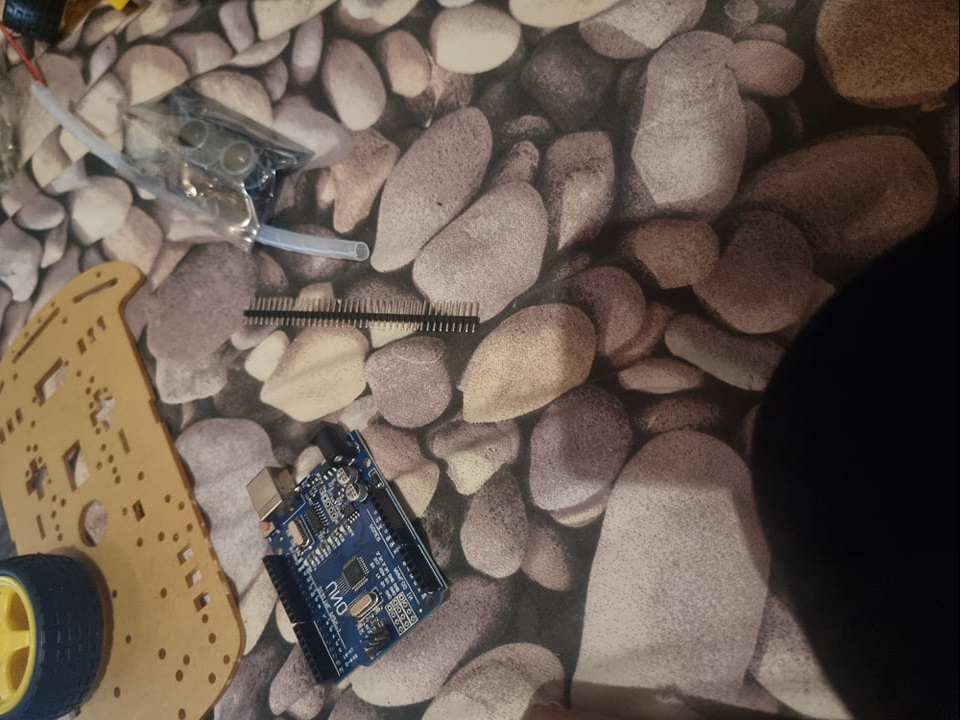SENSOR: (174, 112, 275, 189)
UNO R3: (245, 414, 453, 688)
